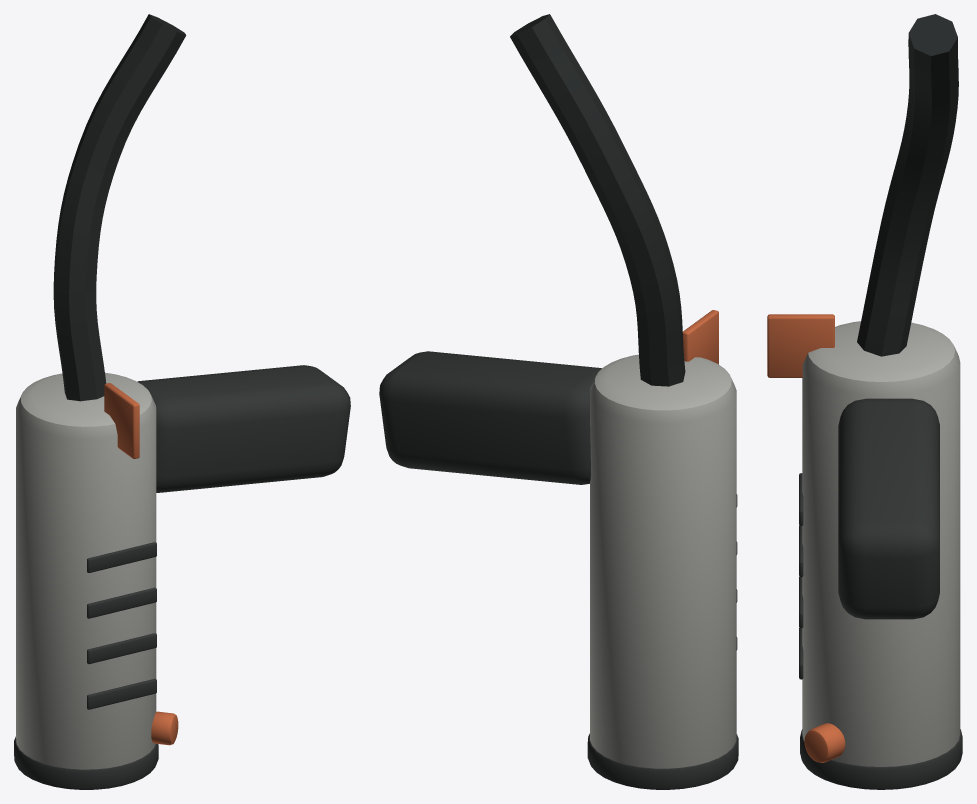
File: stud_welding_gun_body.glb
3 views of the same model, side by side, from view 1: azimuth 30°, elevation 25°; view 2: azimuth 150°, elevation 25°; view 3: azimuth 270°, elevation 25° (orthographic). The views are drawn at different scales.
Parts seen in each view (by area): view 1: stud_welding_gun_body; view 2: stud_welding_gun_body; view 3: stud_welding_gun_body.
Boxes of the visible parts, left/top/right/bottom form: stud_welding_gun_body: left=14, top=14, right=350, bottom=789; stud_welding_gun_body: left=379, top=14, right=738, bottom=789; stud_welding_gun_body: left=767, top=14, right=962, bottom=789.
Bounding box in the file's own units: 0.1822 × 0.3871 × 0.0865.
